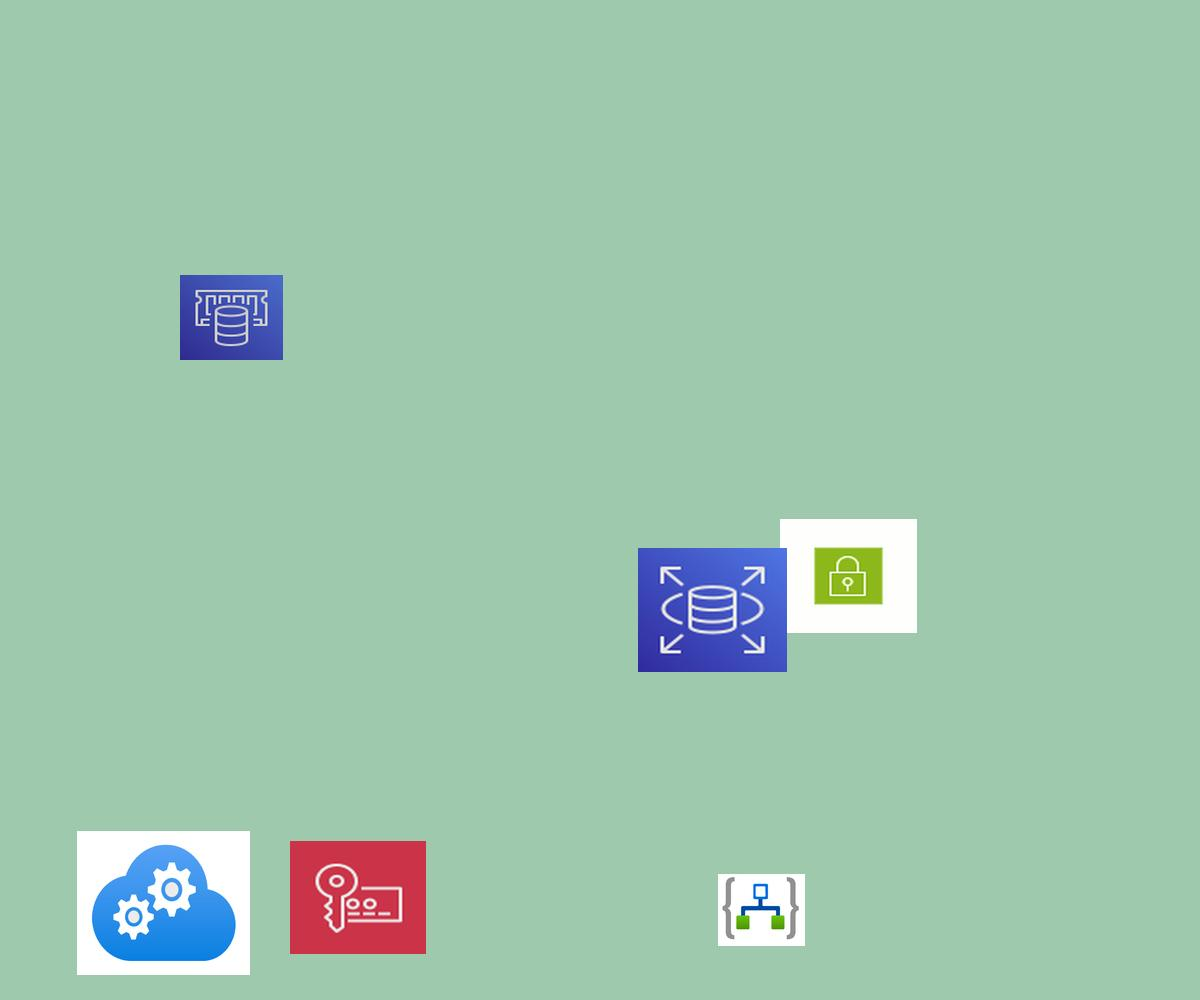AWS-ElastiCache: (180, 275, 283, 360)
AWS-Key-Management-Service: (290, 841, 426, 954)
AWS-Public-subnet: (780, 519, 917, 633)
AWS-RDS: (638, 548, 787, 672)
Azure_cloud_services: (77, 831, 250, 975)
Azure_integration-204-Logic-Apps: (718, 874, 805, 946)
